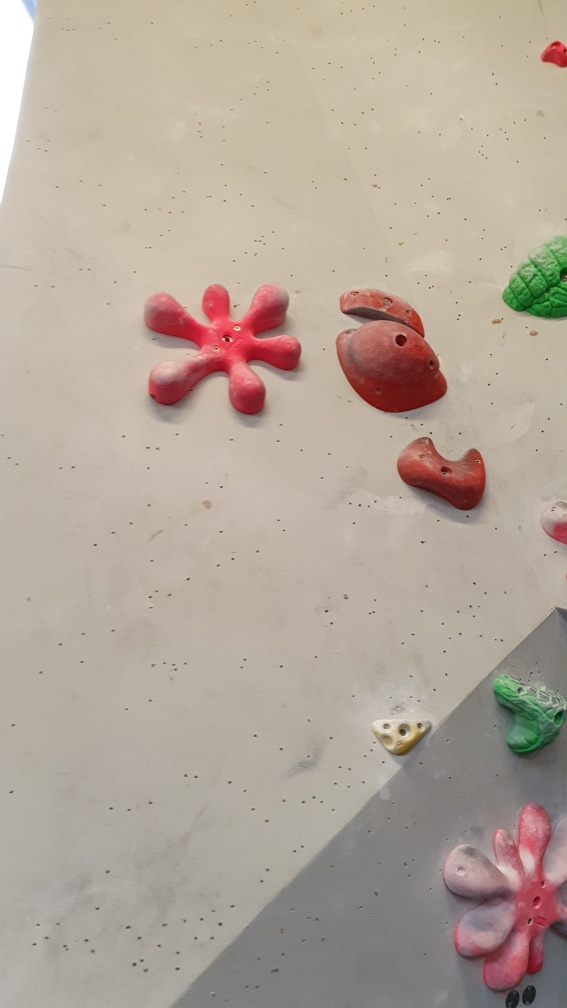Octopus Pinch: (444, 799, 567, 997), (139, 279, 305, 421)
